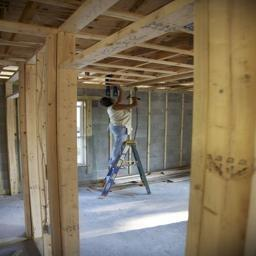no hat: (89, 88, 117, 111)
no vest: (106, 105, 141, 136)
